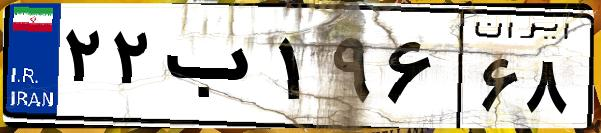1: (270, 28, 330, 110)
2: (57, 26, 110, 100), (110, 28, 158, 98)
6: (385, 28, 445, 110), (475, 38, 525, 113)
8: (525, 38, 570, 115)
9: (330, 28, 385, 110)
ب: (158, 20, 270, 120)
